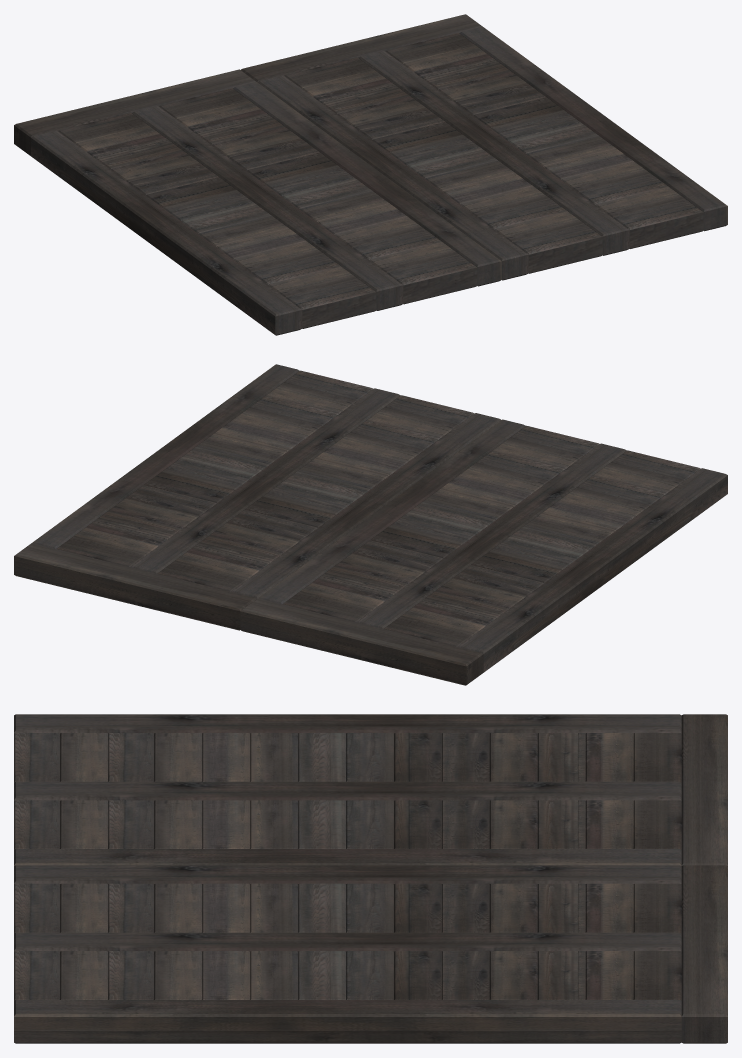
The model's file is SM_Unhyun_Norak_Floor_I001.fbx.
3 views of the same model, one above another, from view 1: azimuth 30°, elevation 25°; view 2: azimuth 150°, elevation 25°; view 3: azimuth 270°, elevation 25° (orthographic). The views are drawn at different scales.
Parts seen in each view (by area): view 1: SM_Unhyun_Norak_Floor_I001; view 2: SM_Unhyun_Norak_Floor_I001; view 3: SM_Unhyun_Norak_Floor_I001.
Boxes of the visible parts, box(x1,y1,x2,y2) form: SM_Unhyun_Norak_Floor_I001: box(14, 14, 727, 335); SM_Unhyun_Norak_Floor_I001: box(14, 364, 727, 685); SM_Unhyun_Norak_Floor_I001: box(14, 714, 727, 1043).
Bounding box in the file's own units: 261 × 11.89 × 261.
